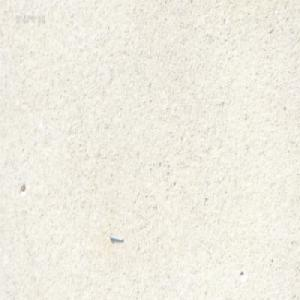Nail: (109, 233, 124, 242)
